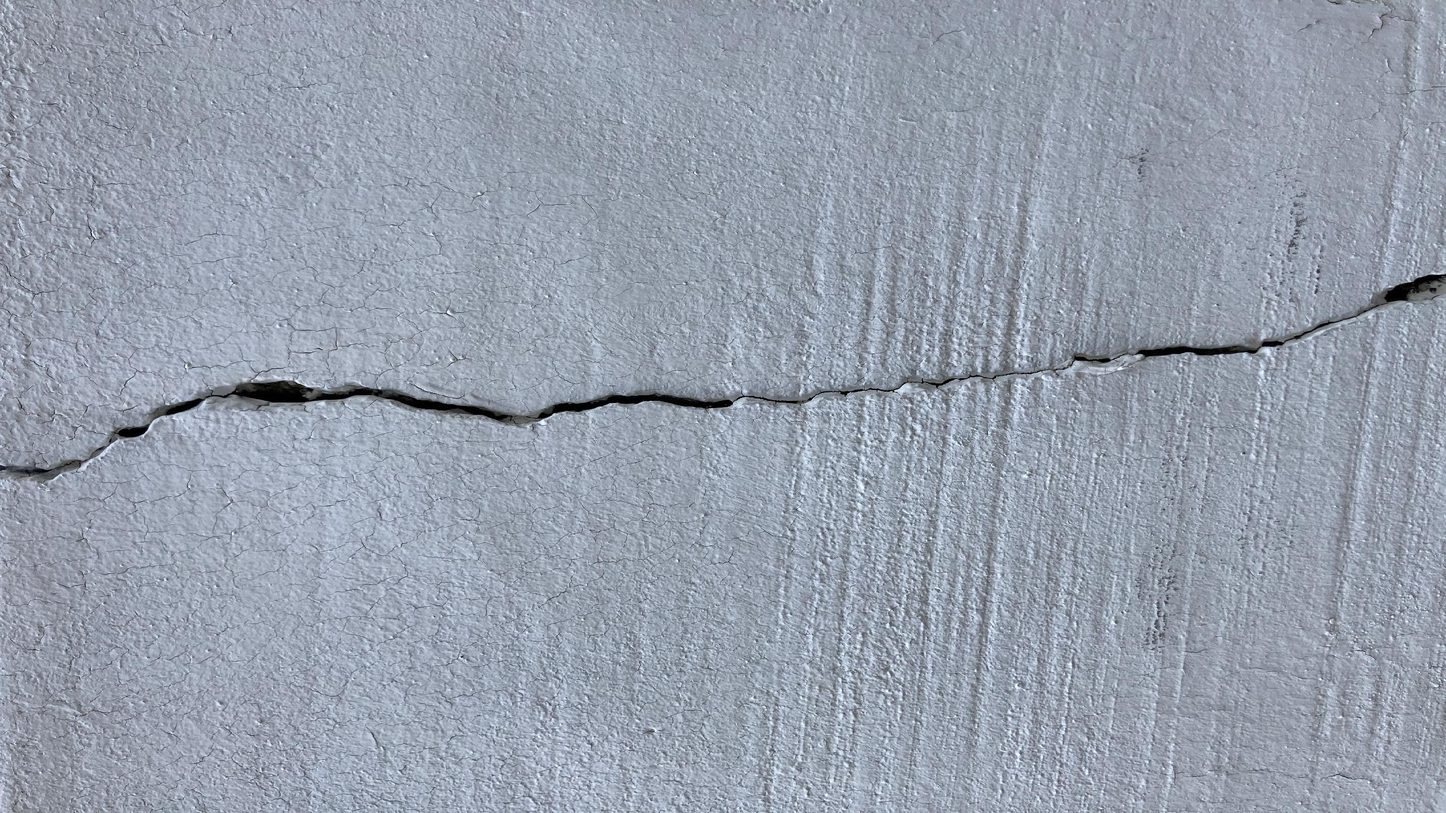crack: (1, 273, 1444, 478)
